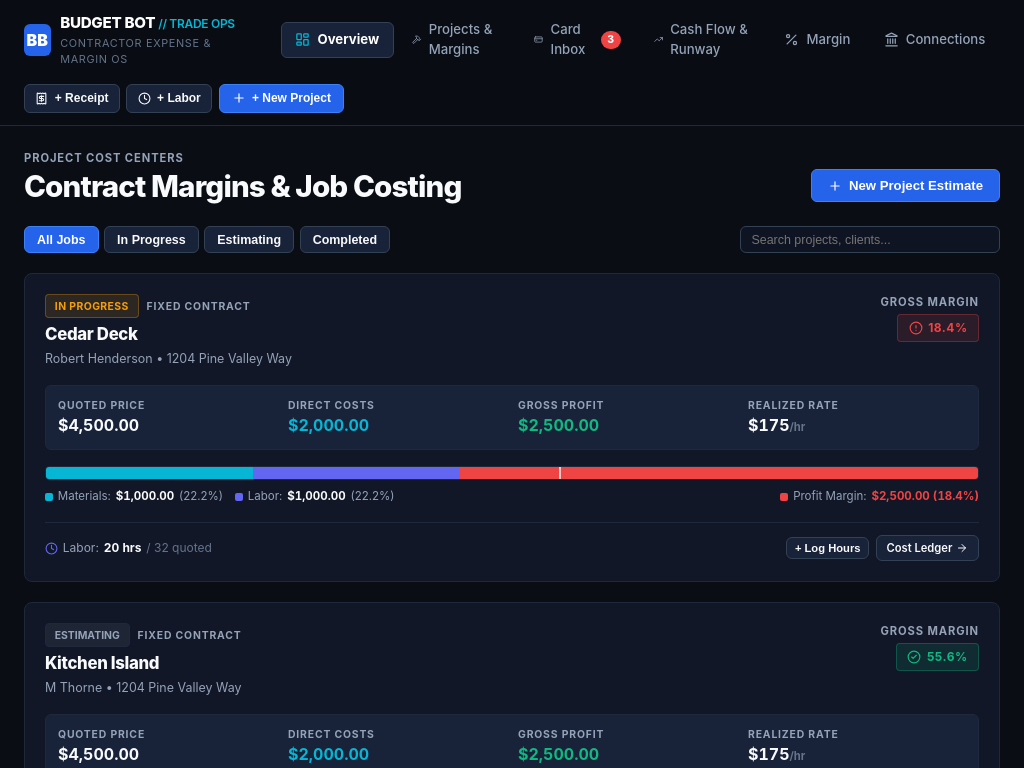
it: ProjectsView › closes the modal again
What coordinates should you click on to do the following:
click the button "New Project Estimate"
I would click on:
 (906, 186)
Its box is [812,169,1000,202].
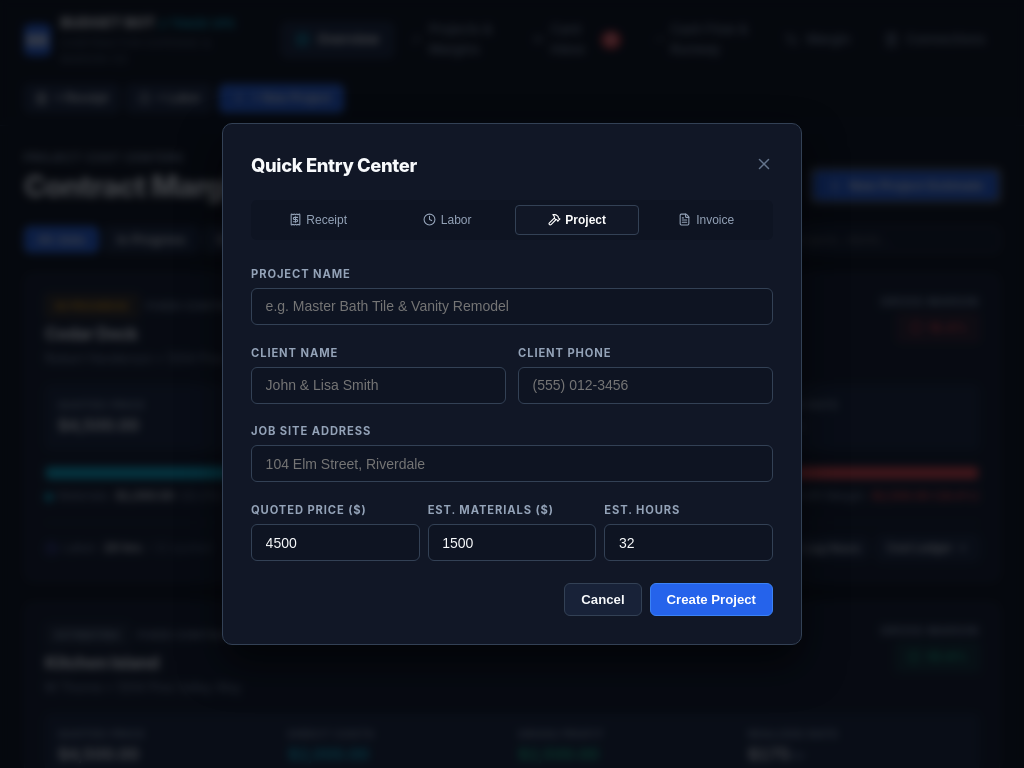
What coordinates should you click on to do the following:
click the button named "Close"
I would click on:
 (764, 166)
Its box is [755,155,773,176].
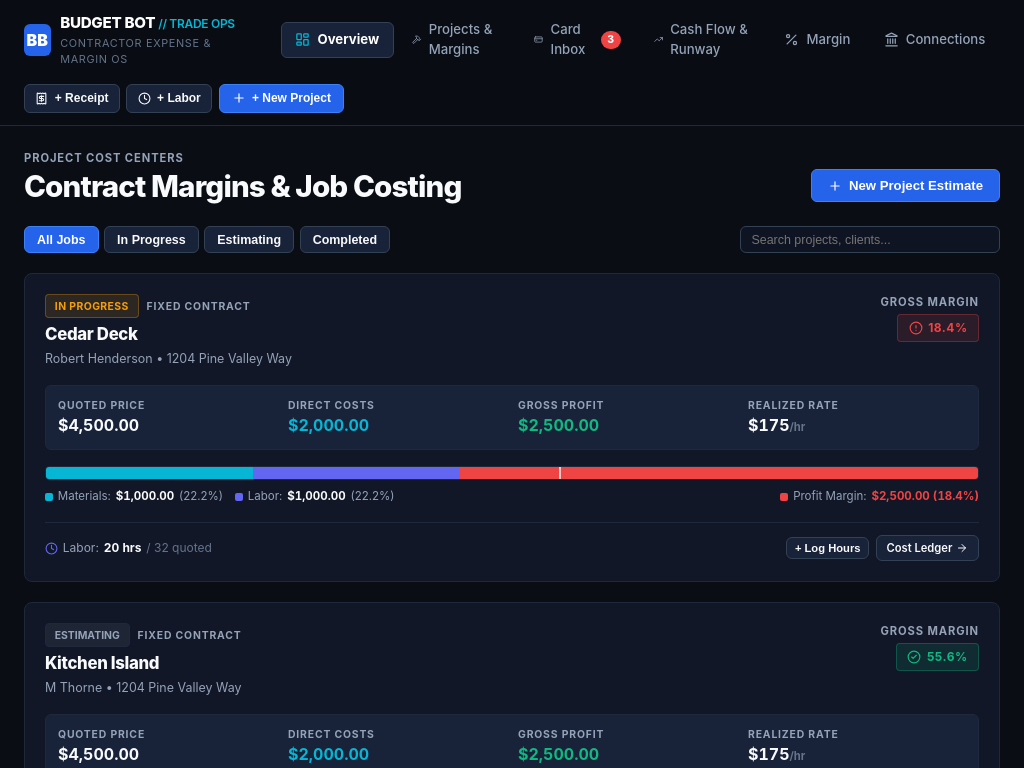
Now the text "Quick Entry Center" is gone
